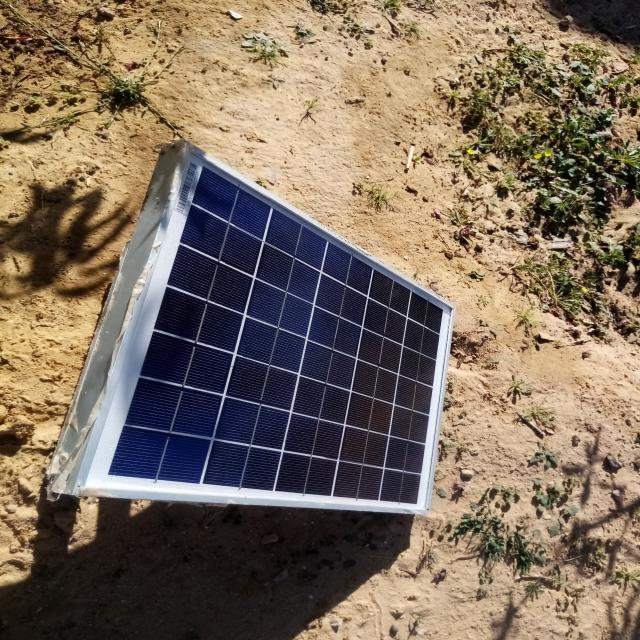Normal Solar Panel: (74, 149, 453, 512)
